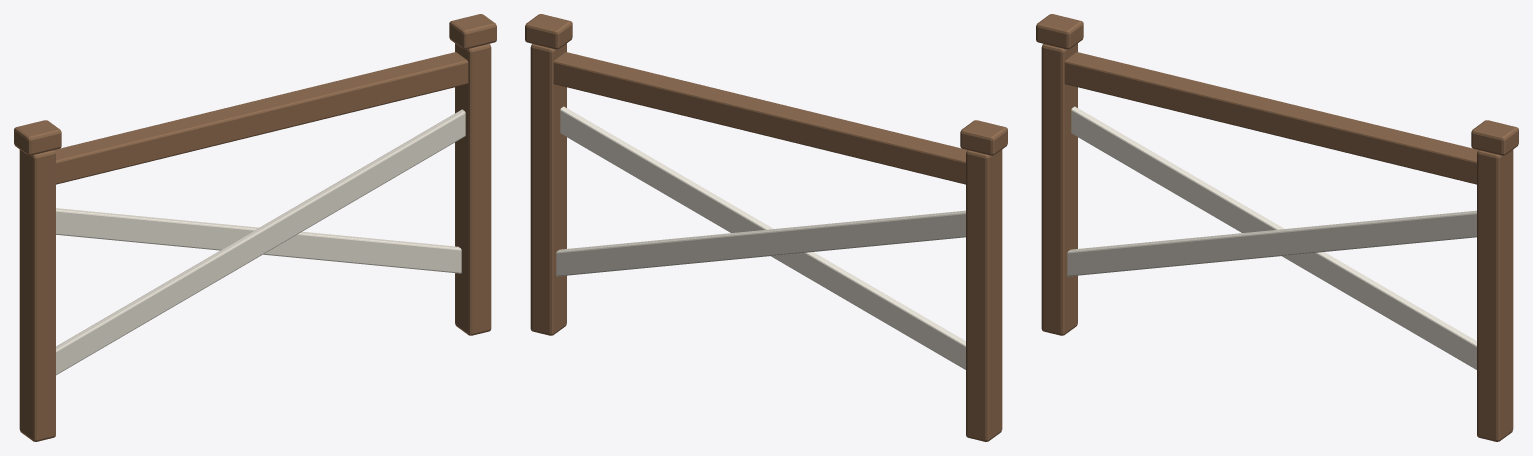
File: fence_10.glb
3 views of the same model, side by side, from view 1: azimuth 30°, elevation 25°; view 2: azimuth 150°, elevation 25°; view 3: azimuth 330°, elevation 25° (orthographic).
Parts seen in each view (by area): view 1: Tint, Top rail, Fence post, Fence post.001, Post cap.001, Post cap; view 2: Tint, Top rail, Fence post, Fence post.001, Post cap.001, Post cap; view 3: Tint, Top rail, Fence post.001, Fence post, Post cap, Post cap.001.
Boxes of the visible parts, bbox=[...] form: Tint: bbox=[56, 109, 465, 375]; Top rail: bbox=[55, 52, 468, 184]; Fence post: bbox=[19, 149, 55, 441]; Fence post.001: bbox=[455, 43, 491, 335]; Post cap.001: bbox=[449, 14, 496, 49]; Post cap: bbox=[14, 120, 61, 155]; Tint: bbox=[556, 106, 965, 369]; Top rail: bbox=[553, 52, 966, 184]; Fence post: bbox=[966, 149, 1002, 441]; Fence post.001: bbox=[530, 43, 566, 335]; Post cap.001: bbox=[525, 14, 572, 49]; Post cap: bbox=[960, 120, 1007, 155]; Tint: bbox=[1067, 106, 1476, 369]; Top rail: bbox=[1064, 52, 1477, 184]; Fence post.001: bbox=[1477, 149, 1513, 441]; Fence post: bbox=[1041, 43, 1077, 335]; Post cap: bbox=[1036, 14, 1083, 49]; Post cap.001: bbox=[1471, 120, 1518, 155].
Size of the model in its own units: 2.05 by 1.28 by 0.12.
